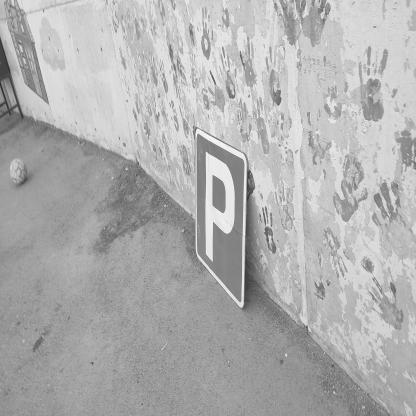Parking-Sign: (195, 127, 250, 314)
